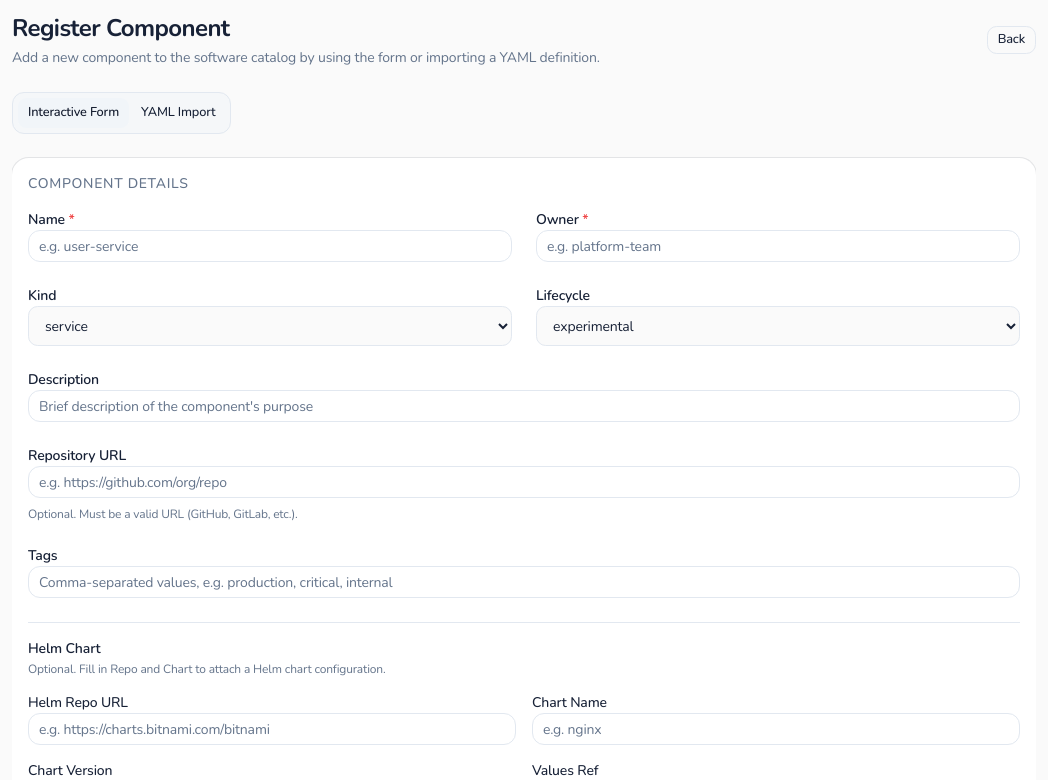
NewComponentClient — YAML Import tab › shows validation error when YAML is empty on submit
The width and height of the screenshot is (1048, 780).
Click the button "YAML Import": (178, 113) x1=130 y1=97 x2=226 y2=129
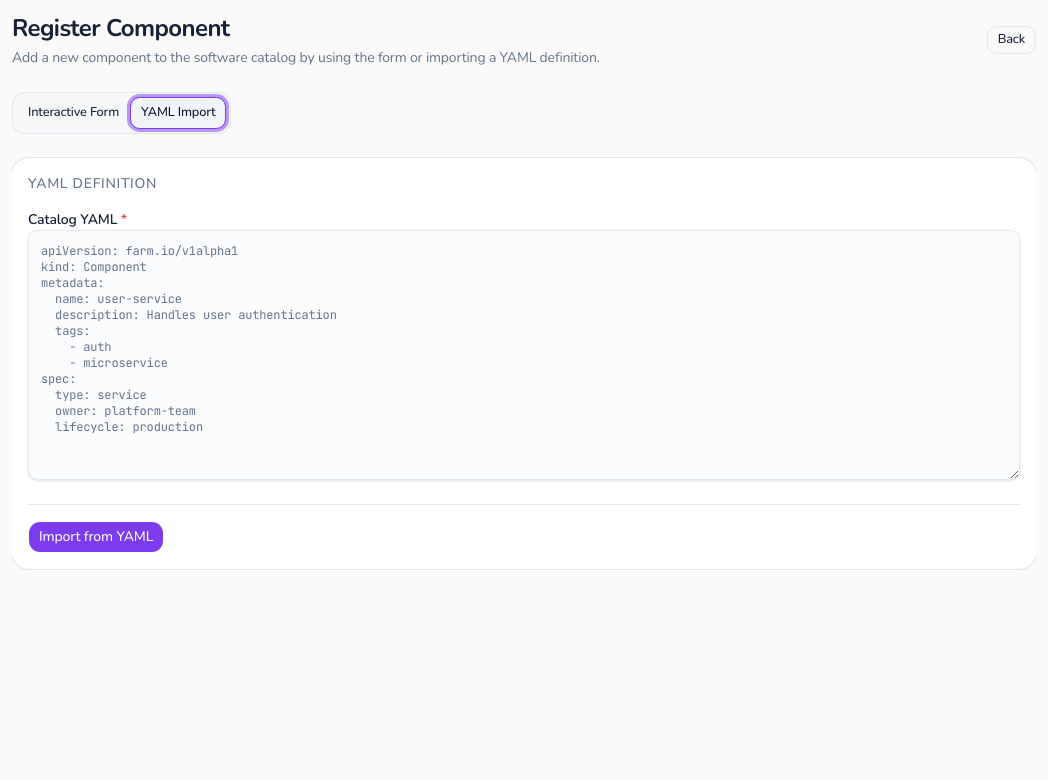
Click the button "Import from YAML": (96, 537) x1=28 y1=521 x2=164 y2=553
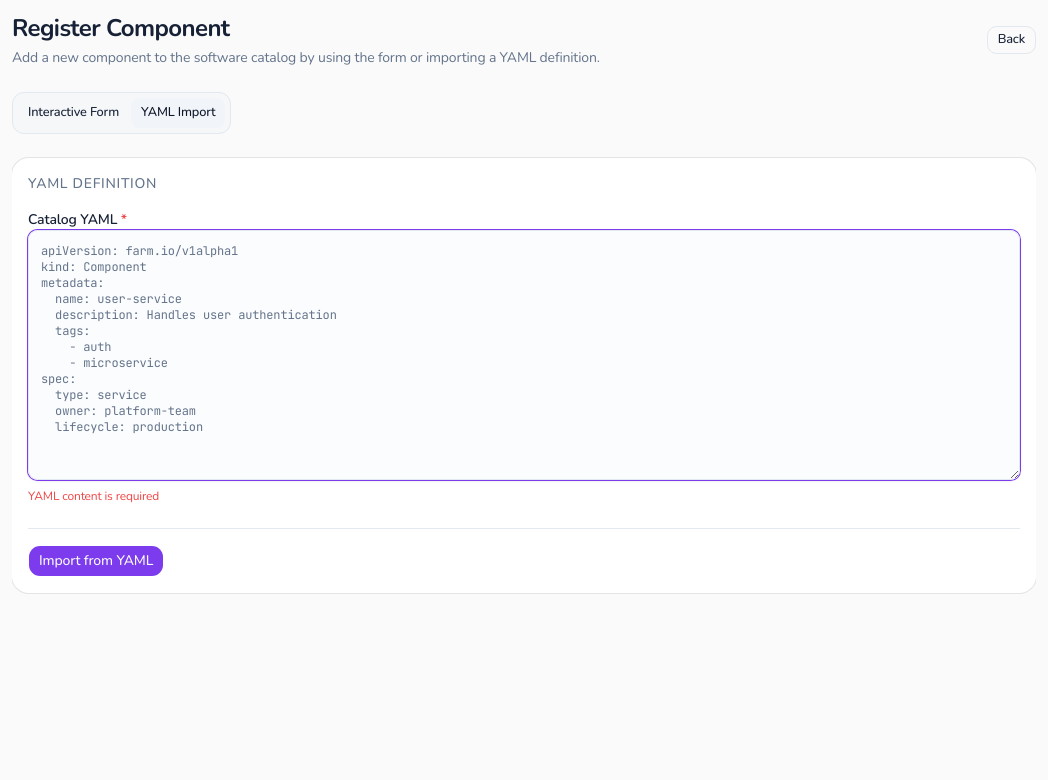
Check: the text "YAML content is required" is shown, box x1=28 y1=488 x2=159 y2=504
